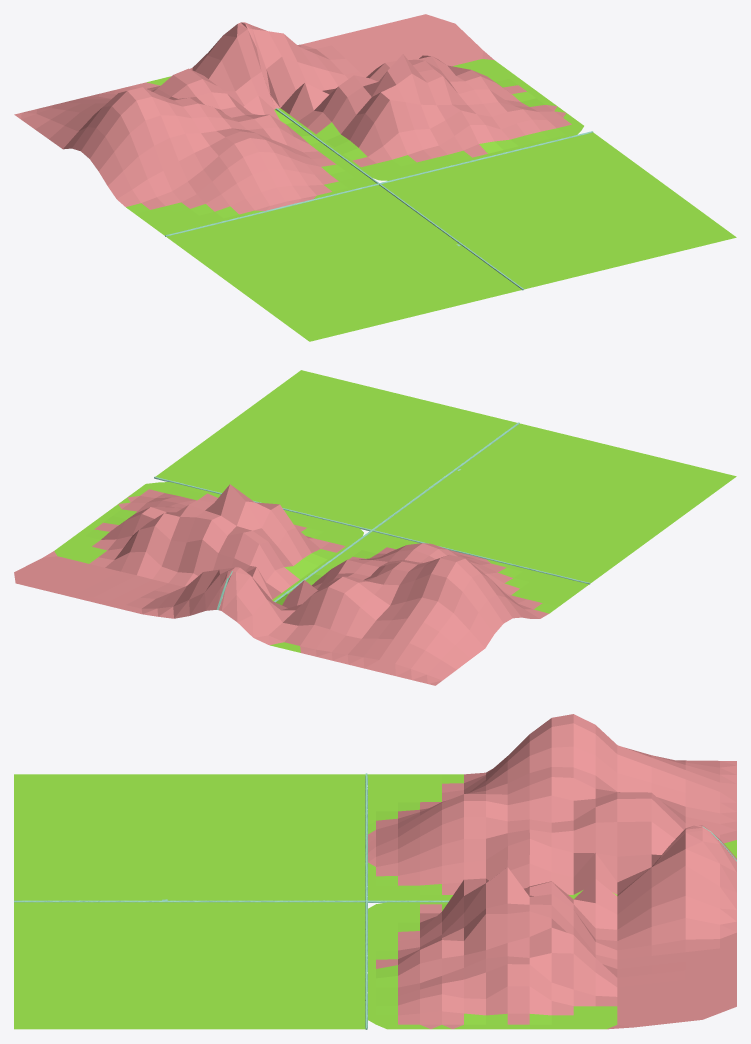
Rendered from TestLandscape.fbx.
3 renders of one model, top to bottom at view 1: azimuth 30°, elevation 25°; view 2: azimuth 150°, elevation 25°; view 3: azimuth 270°, elevation 25°, orthographic. The views are drawn at different scales.
Parts seen in each view (by area): view 1: Plane, Plane.001; view 2: Plane, Plane.001; view 3: Plane, Plane.001.
Boxes of the visible parts, bbox=[...] form: Plane: bbox=[14, 14, 736, 341]; Plane.001: bbox=[165, 108, 592, 290]; Plane: bbox=[14, 370, 736, 685]; Plane.001: bbox=[154, 422, 590, 609]; Plane: bbox=[14, 714, 736, 1029]; Plane.001: bbox=[14, 773, 736, 1029].
Bounding box in the file's own units: 219846 × 35716 × 263377.
